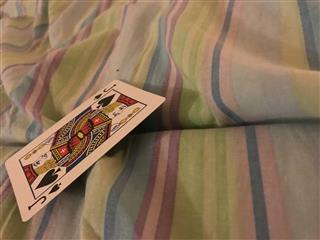JackOfSpades: (3, 78, 165, 222)
